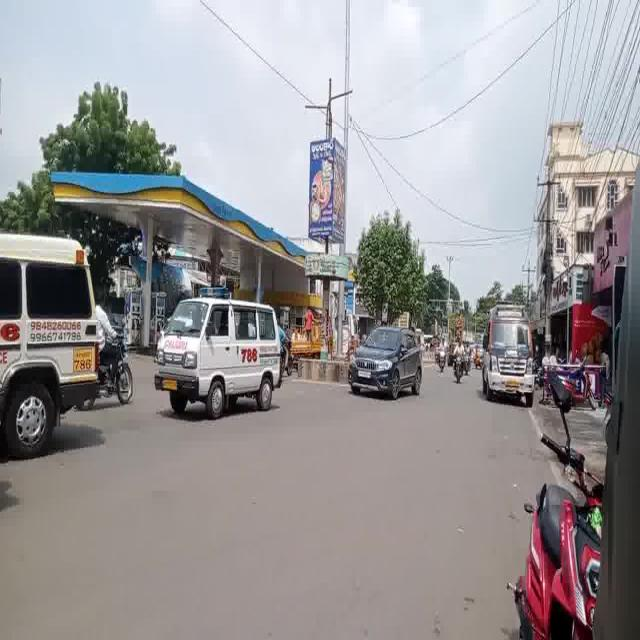ambulance: (2, 221, 109, 485), (140, 292, 292, 425), (485, 298, 536, 413)
